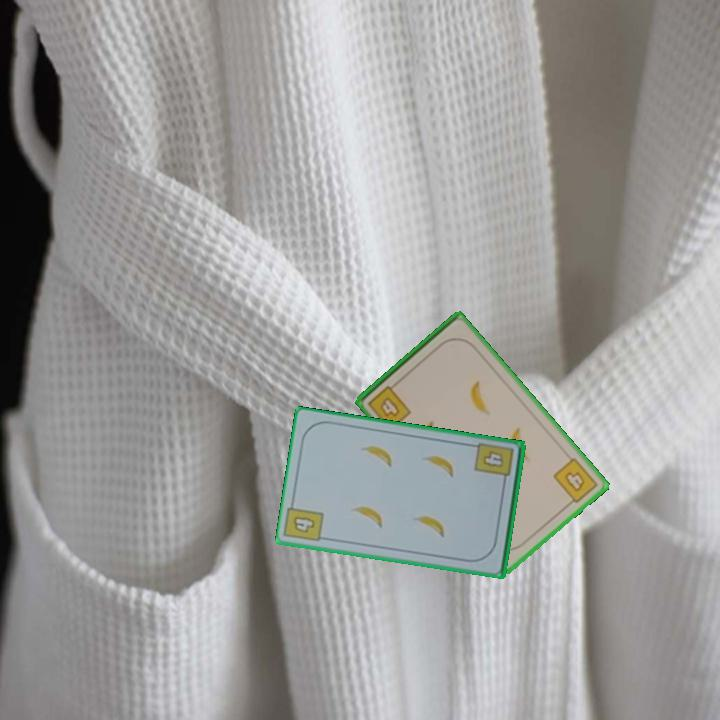4b: (550, 454, 601, 509), (364, 378, 414, 433), (472, 439, 516, 488), (289, 513, 317, 536)
